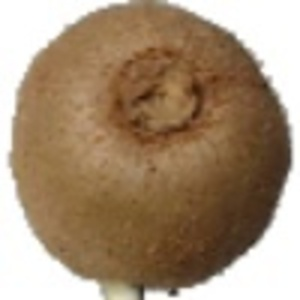kiwi: (7, 1, 294, 300)
